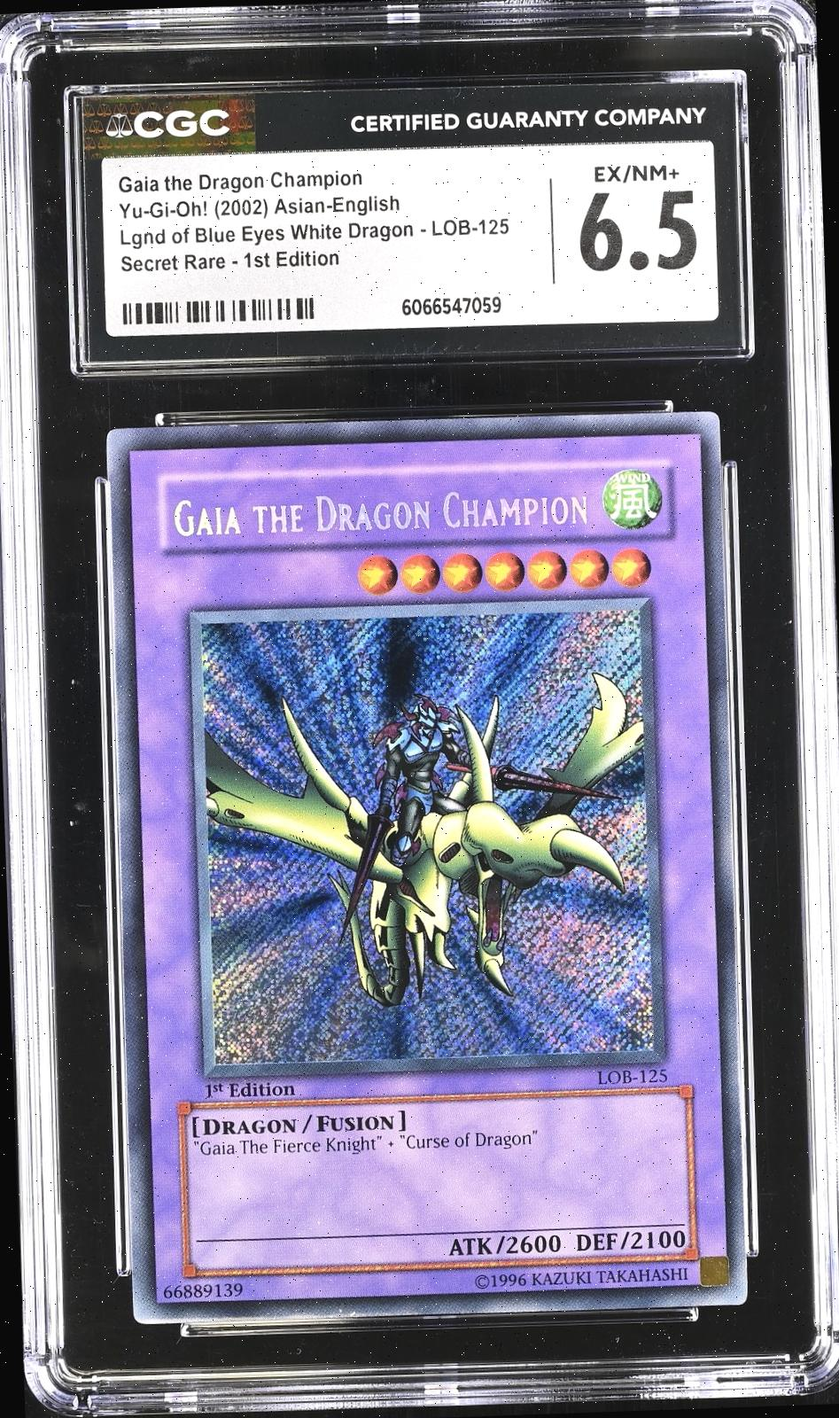card-2UtV: (105, 411, 747, 1325)
